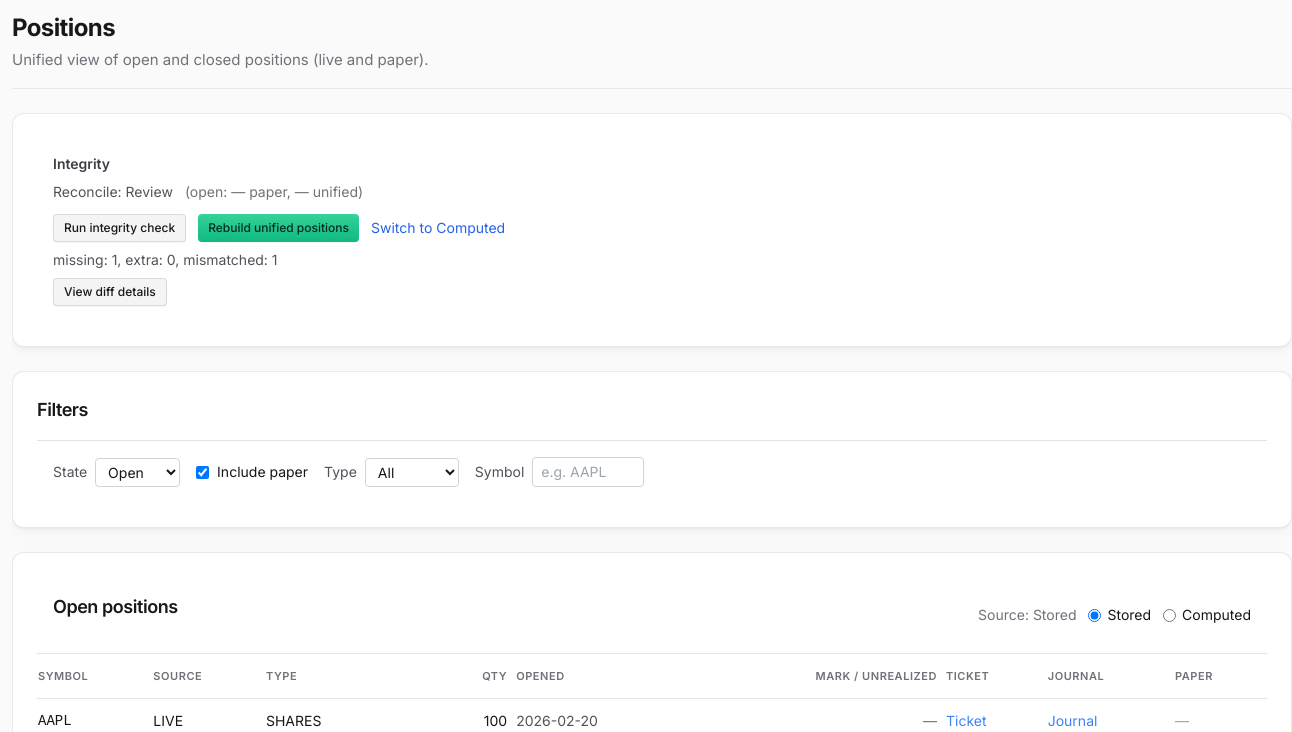
Test: PositionsPage › R29.1: clicking Switch to Computed updates to Source: Computed and does not render diff details section
Check: the text with test id "positions-source-label" reads "Source: Stored", box x1=978 y1=605 x2=1076 y2=625
Click the button with test id "positions-integrity-switch-to-computed": click(438, 228) x1=371 y1=218 x2=505 y2=238
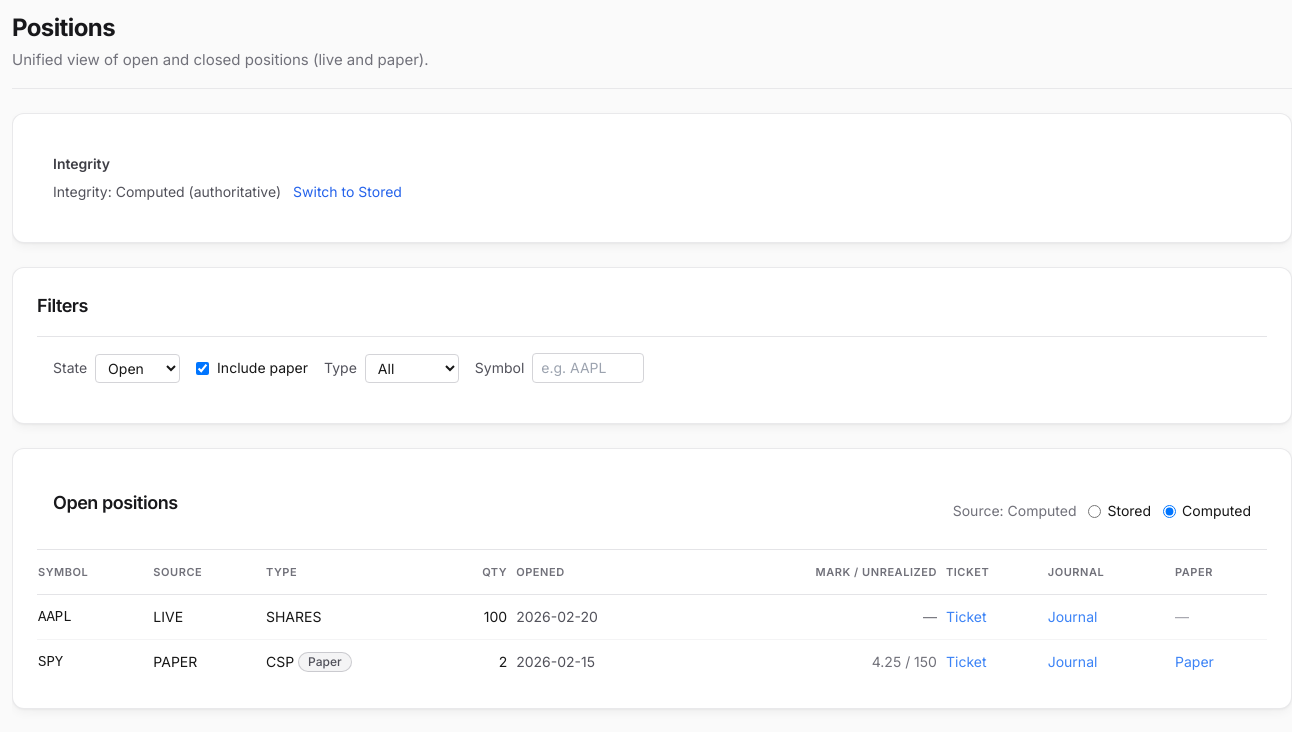
Check: the text with test id "positions-source-label" reads "Source: Computed", box x1=953 y1=501 x2=1076 y2=521
Check: the text with test id "positions-integrity-computed-note" shows "Computed (authoritative)", box x1=53 y1=183 x2=281 y2=200
Check: the text with test id "positions-integrity-diff-counts" is gone
